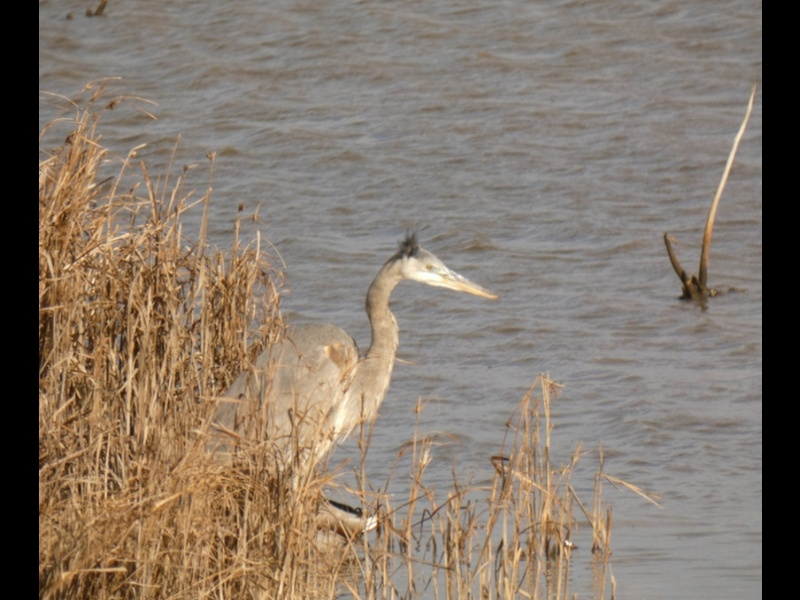heron: (197, 227, 497, 517)
